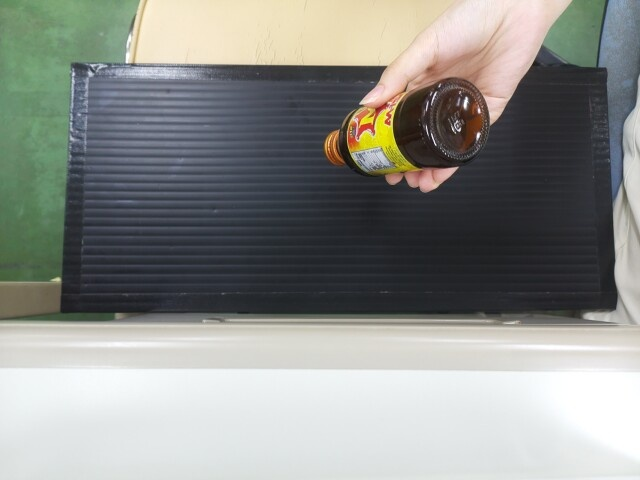glass_bottle: (316, 85, 485, 168)
